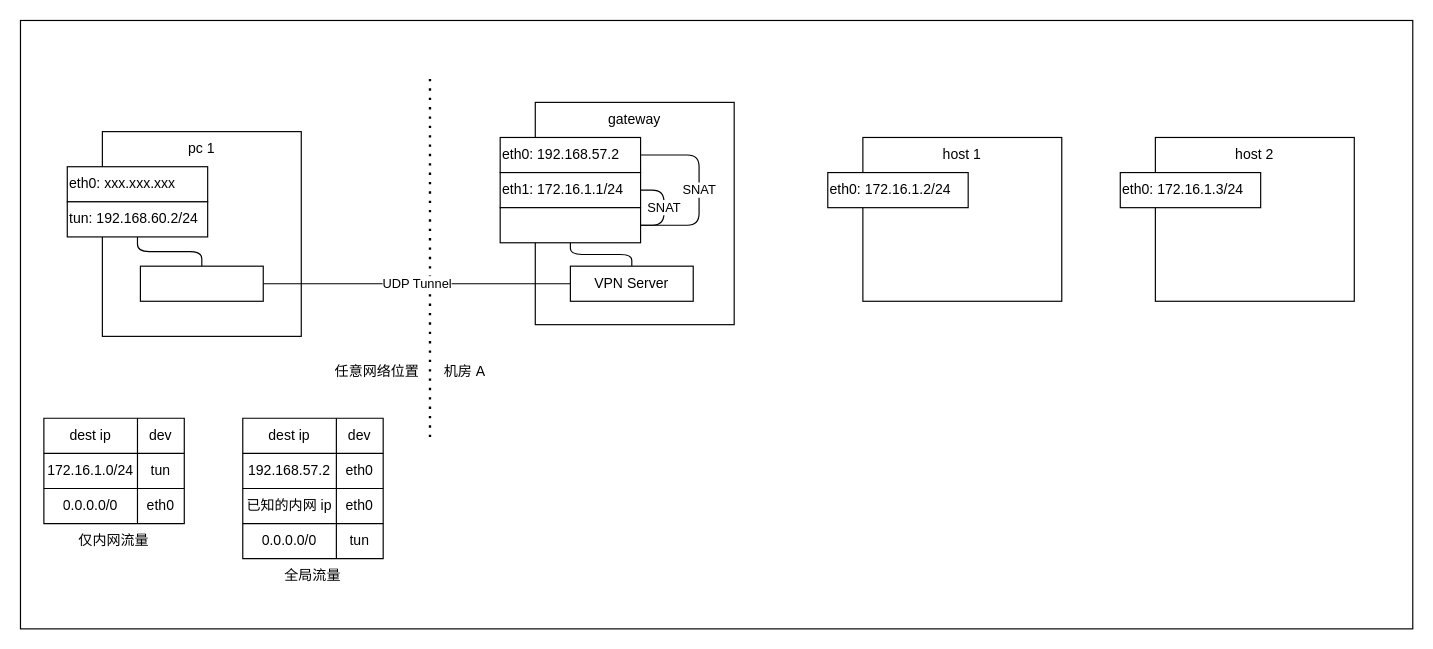
Image size: 1433x649. Some labels were removed from this diagram. The centre of each missing label's shape, as x and y in pixels:
"tun: 192.168.60.1/24" belongs at point 570,225.
"VPN Client" belongs at point 201,283.
